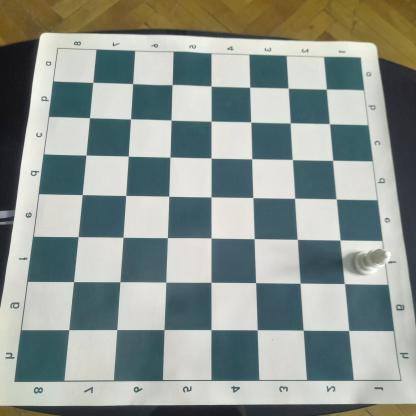white-bishop: (350, 245, 392, 277)
